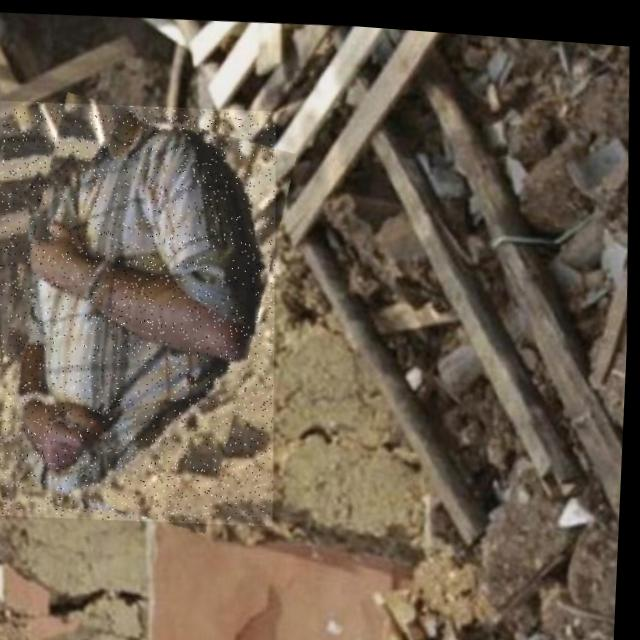Person in Rubble: (0, 90, 291, 530)
